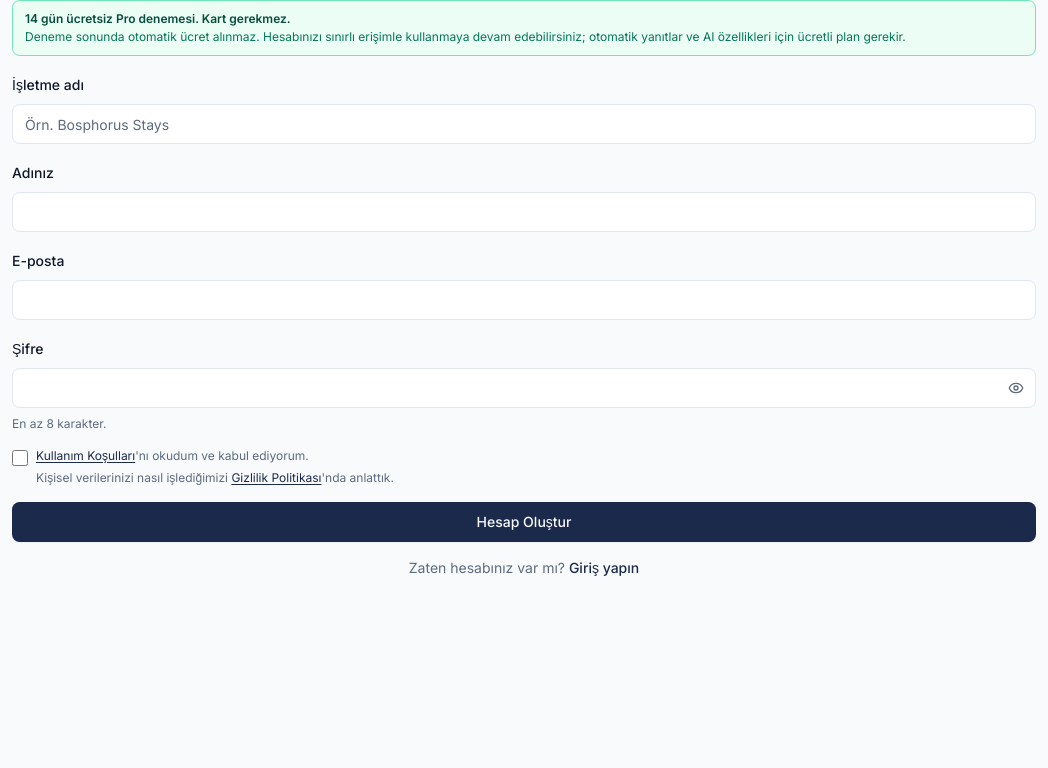
Test: Kayıt formu — alan hataları kontrole PROGRAMATİK olarak bağlı › sunucu alan hatası dönerse aria-invalid + aria-describedby kurulur
Type "Lale" into the field labelled "İşletme adı" at {"x": 524, "y": 124}, box [12,104,1036,144]
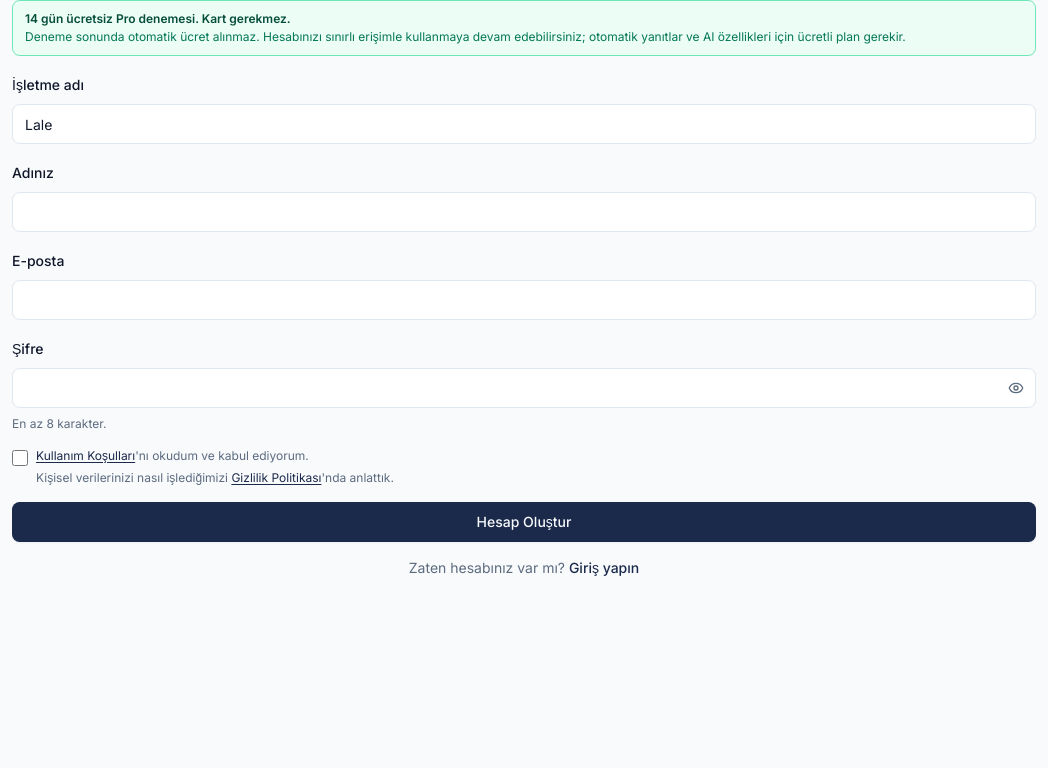
Type "Musa" into the field labelled "Adınız" at {"x": 524, "y": 212}, box [12,192,1036,232]
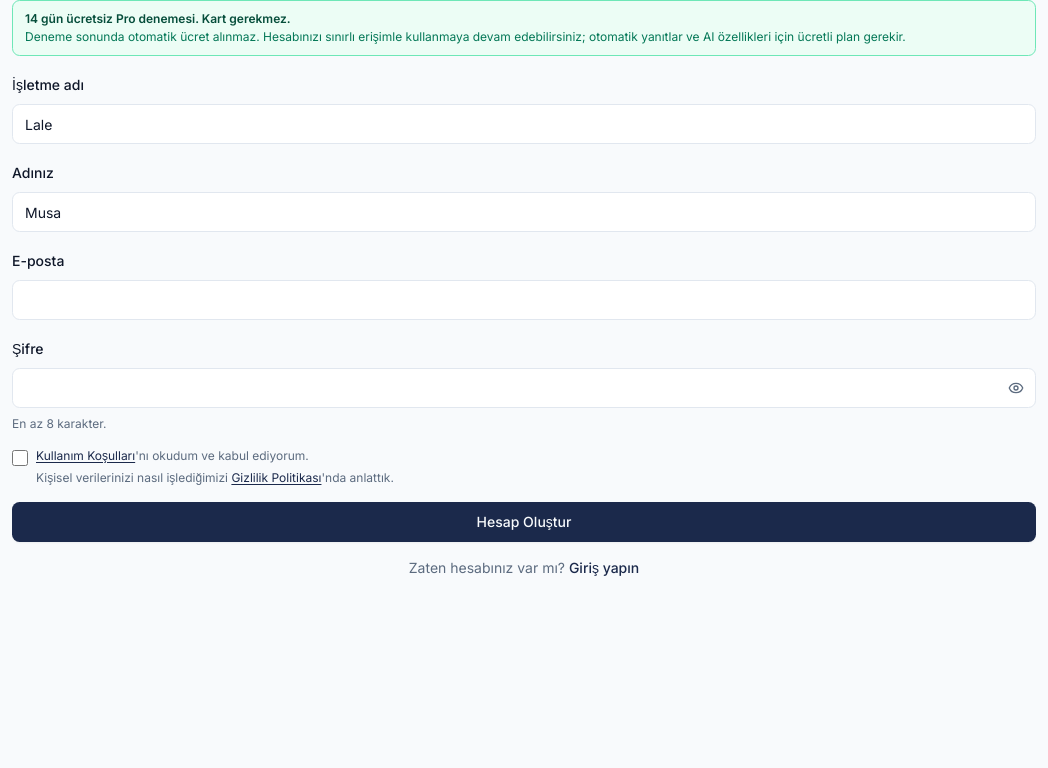
Type "a@b.com" into the field labelled "E-posta" at {"x": 524, "y": 300}, box [12,280,1036,320]
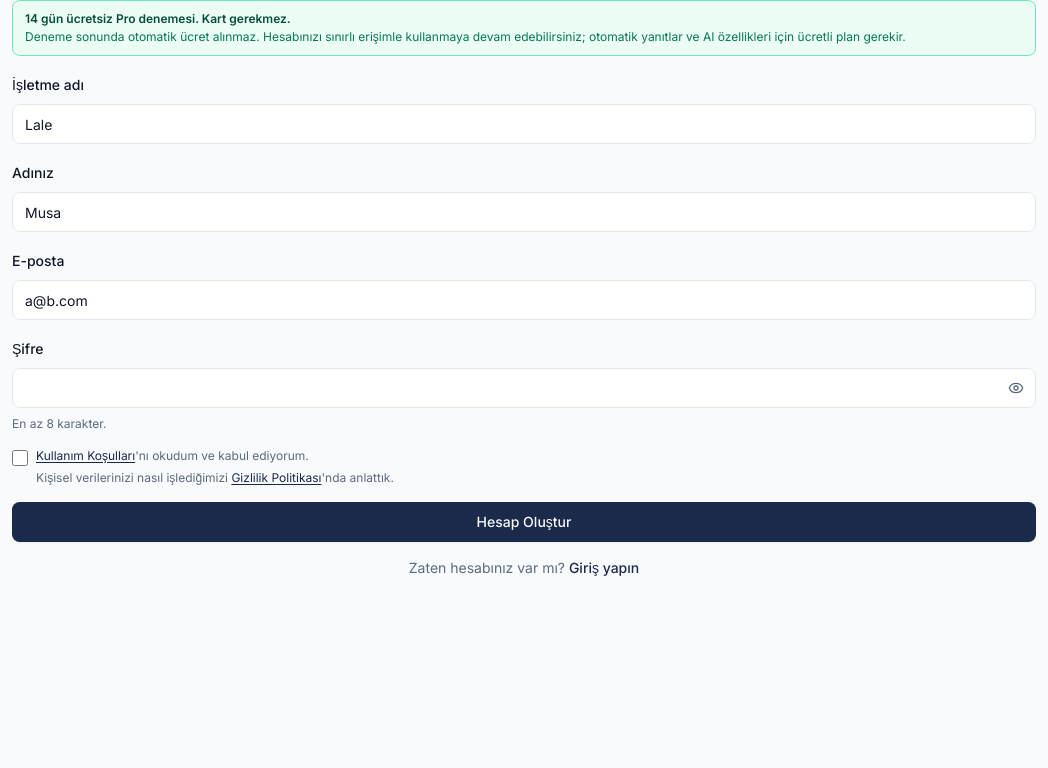
Type "12345678" into the password field labelled "Şifre" at {"x": 524, "y": 388}, box [12,368,1036,408]
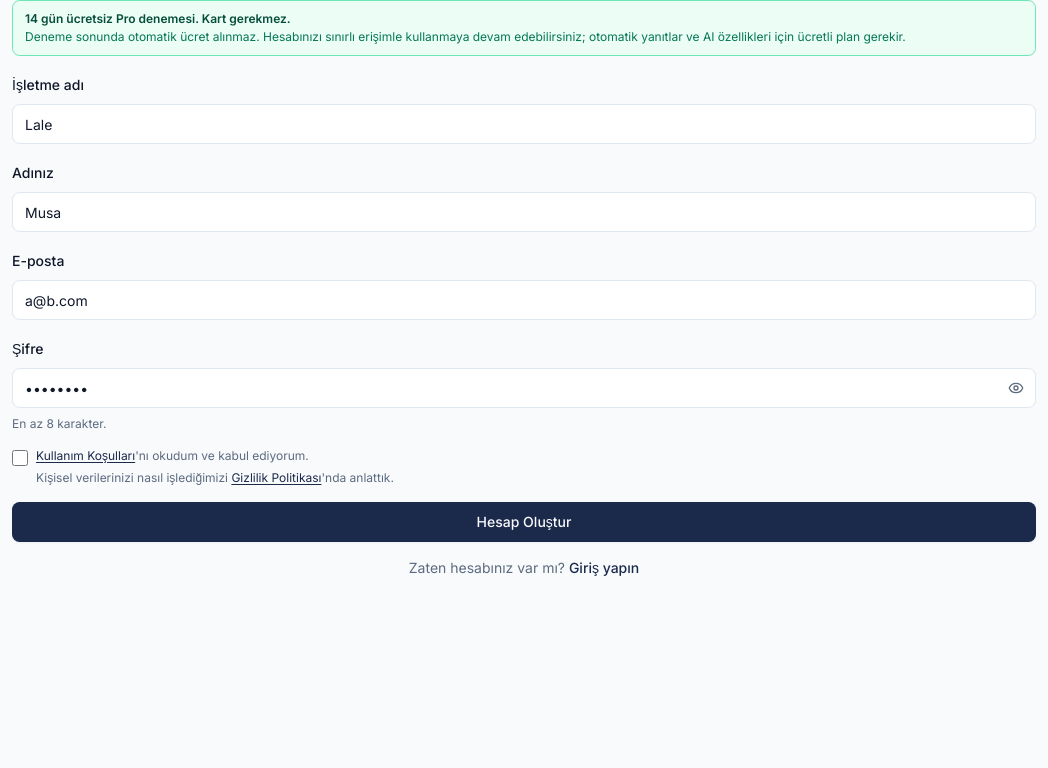
Click the checkbox at {"x": 20, "y": 458}, box [12,450,28,466]
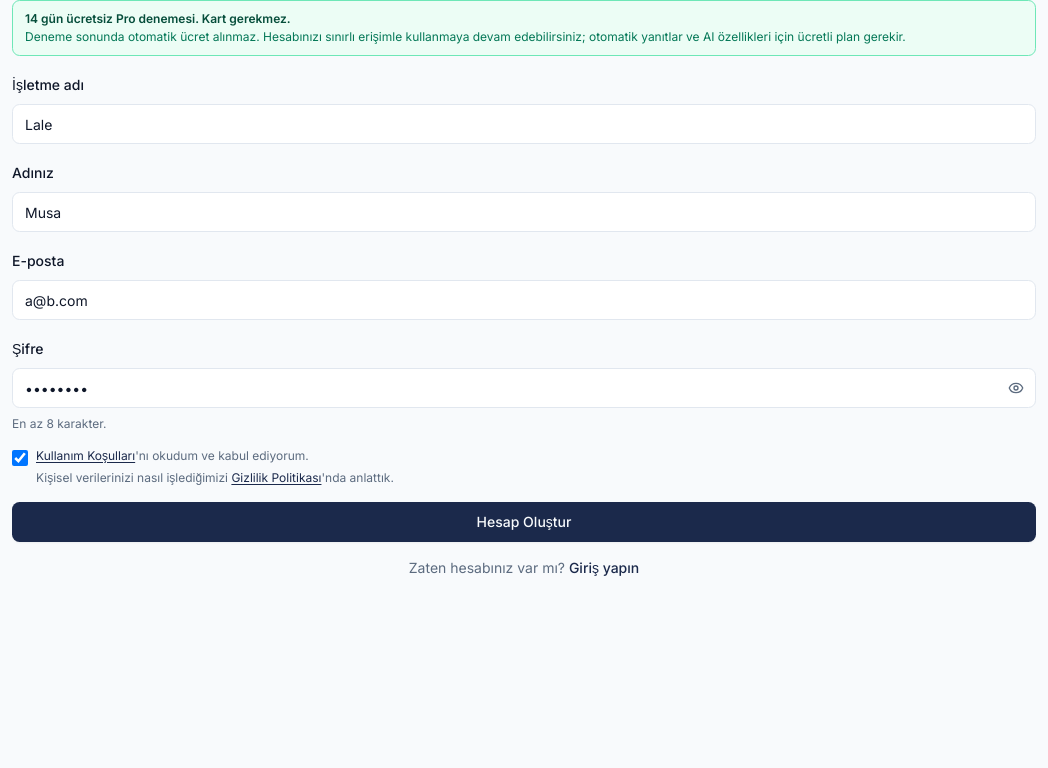
Submit the form named "Hesap Oluştur"
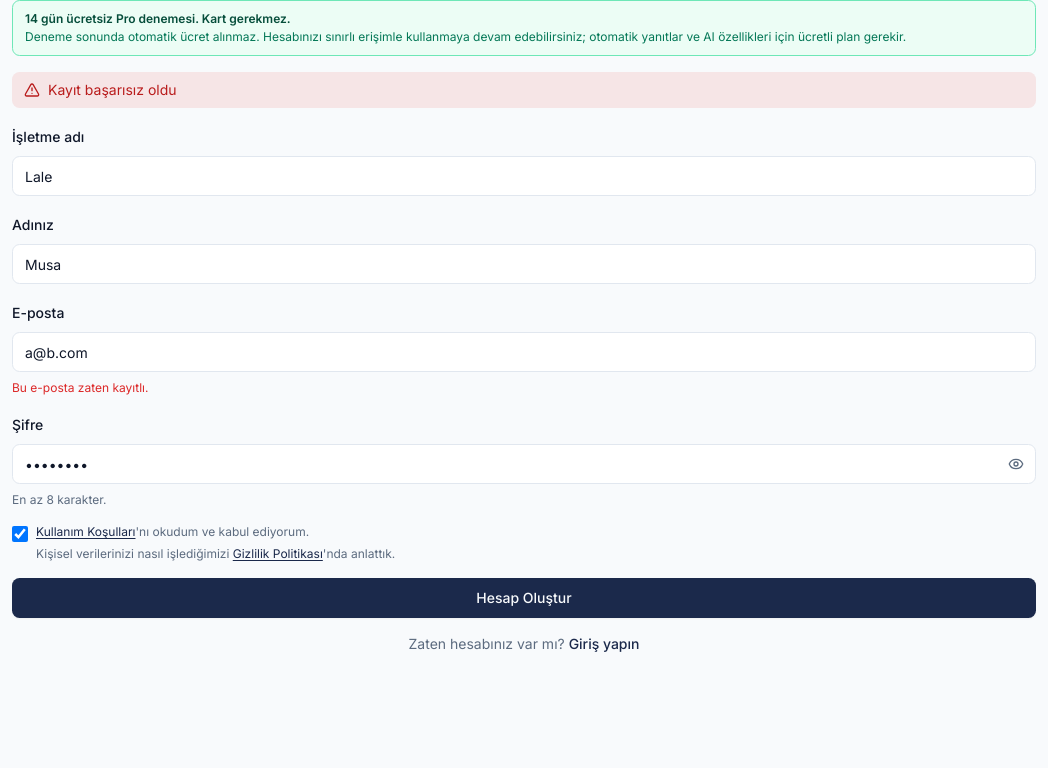
Check: the message "Bu e-posta zaten kayıtlı." is shown, box [12,380,148,395]
